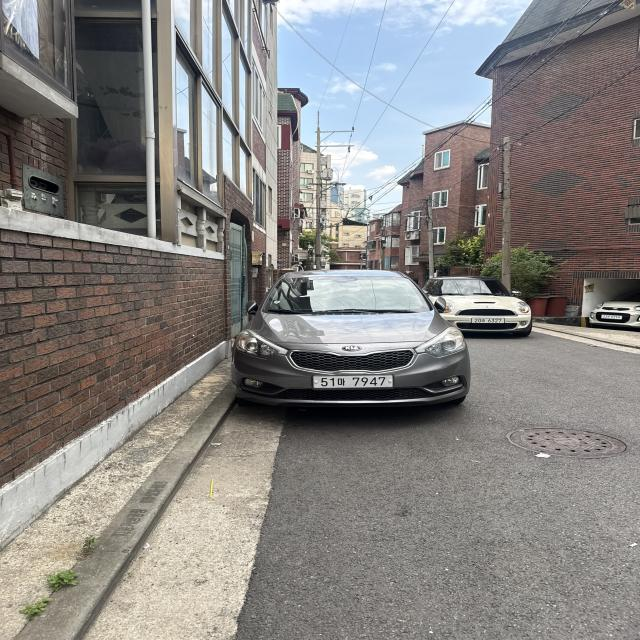car: (209, 244, 501, 456), (419, 258, 550, 344)
